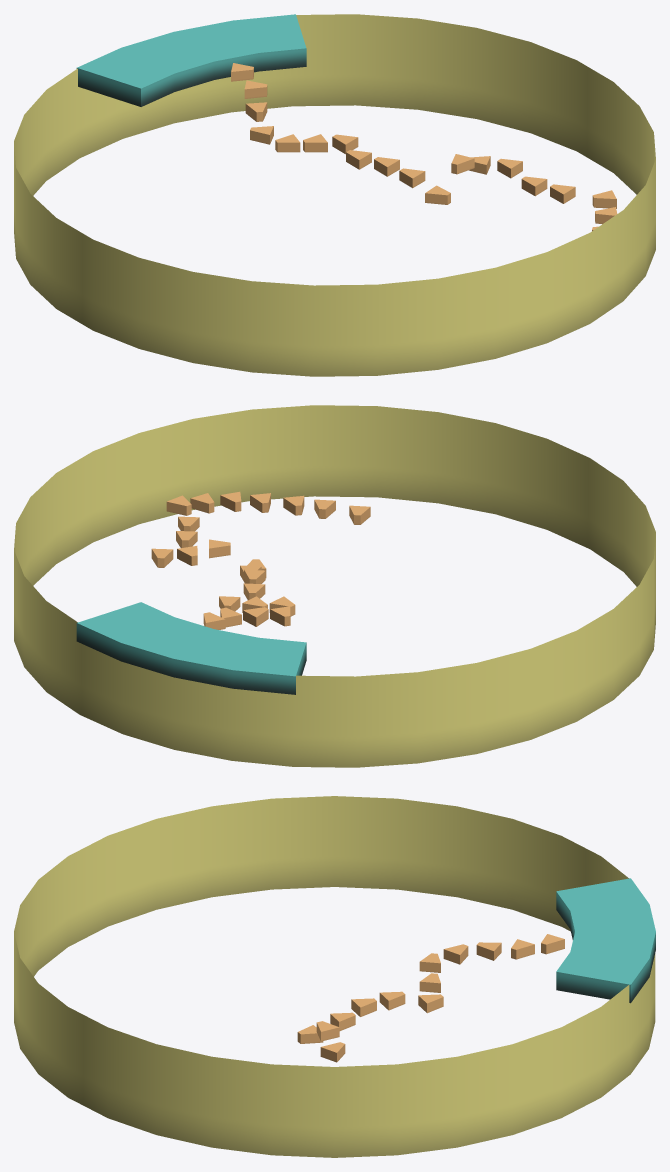
The model's file is Chunk02.glb.
3 renders of one model, top to bottom at view 1: azimuth 30°, elevation 25°; view 2: azimuth 150°, elevation 25°; view 3: azimuth 270°, elevation 25°, orthographic.
Visible parts, largest first — view 1: Chunk02; view 2: Chunk02; view 3: Chunk02.
Boxes of the visible parts, bbox=[...] form: Chunk02: bbox=[14, 14, 655, 376]; Chunk02: bbox=[14, 405, 655, 767]; Chunk02: bbox=[14, 796, 655, 1157].
Size of what is drawn, in the model's own units: 69.14 by 11.03 by 69.22.
1 material, 1 textured.
